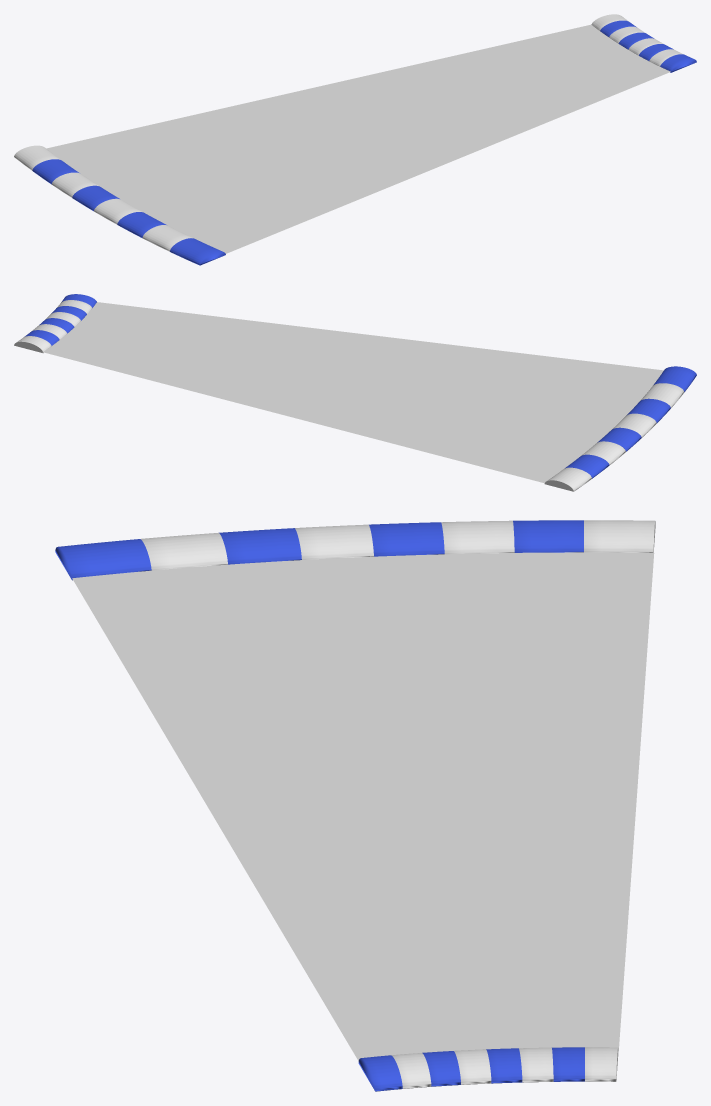
The model's file is curved road.fbx.
3 views of the same model, one above another, from view 1: azimuth 30°, elevation 25°; view 2: azimuth 150°, elevation 25°; view 3: azimuth 270°, elevation 25° (orthographic). The views are drawn at different scales.
Visible parts, largest first — view 1: Plane.003, blue side.007, green side.007, blue side.006, green side.006; view 2: Plane.003, green side.007, blue side.007, green side.006, blue side.006; view 3: Plane.003, blue side.007, green side.007, blue side.006, green side.006.
Boxes of the visible parts, x1,y1,x2,y2 form: Plane.003: (46, 24, 670, 253); blue side.007: (32, 159, 225, 265); green side.007: (14, 145, 193, 251); blue side.006: (600, 20, 696, 72); green side.006: (591, 14, 683, 66); Plane.003: (42, 302, 663, 483); green side.007: (544, 383, 684, 491); blue side.007: (565, 366, 696, 478); green side.006: (14, 300, 92, 353); blue side.006: (24, 294, 96, 345); Plane.003: (72, 552, 654, 1060); blue side.007: (55, 520, 583, 580); green side.007: (140, 520, 655, 570); blue side.006: (358, 1047, 584, 1091); green side.006: (391, 1047, 618, 1088).
Size of the model in its own units: 1361 by 15 by 610.
